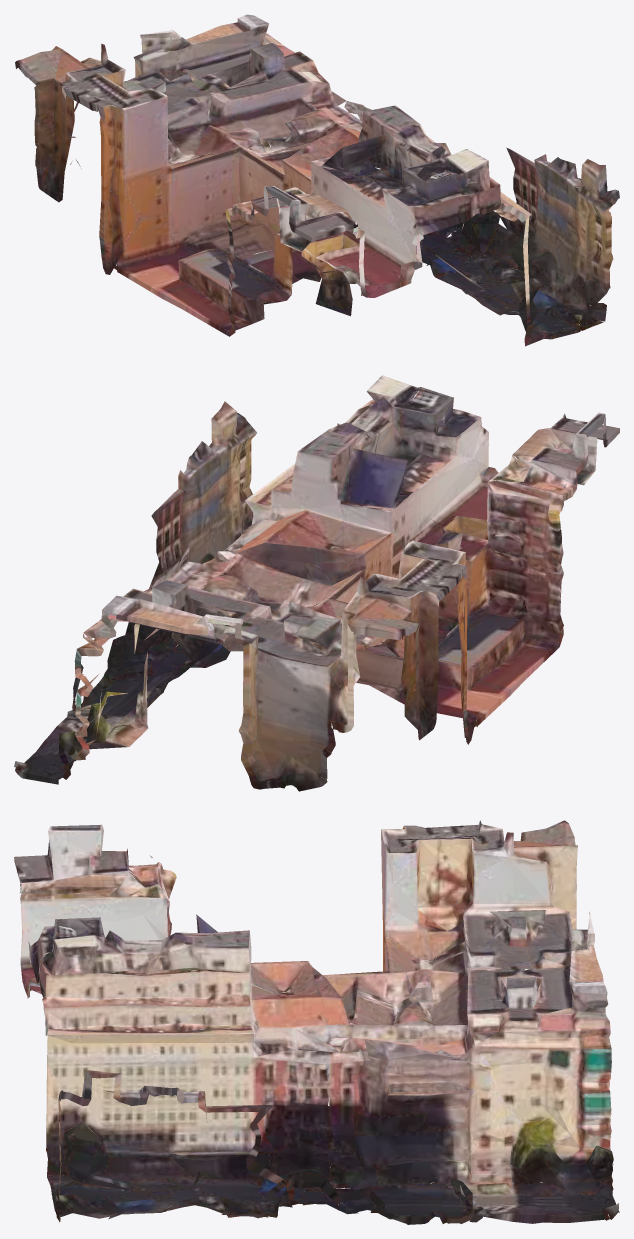
3 views of the same model, one above another, from view 1: azimuth 30°, elevation 25°; view 2: azimuth 150°, elevation 25°; view 3: azimuth 270°, elevation 25° (orthographic). The views are drawn at different scales.
Visible parts, largest first — view 1: Mesh_0; view 2: Mesh_0; view 3: Mesh_0.
Part boxes in pixels (x1,y1,x2,y2): Mesh_0: (15,14,619,346); Mesh_0: (14,375,619,791); Mesh_0: (14,820,619,1224).
Bounding box in the file's own units: 66.56 × 36.47 × 82.51.
Materials: 2 (2 with a texture image).
